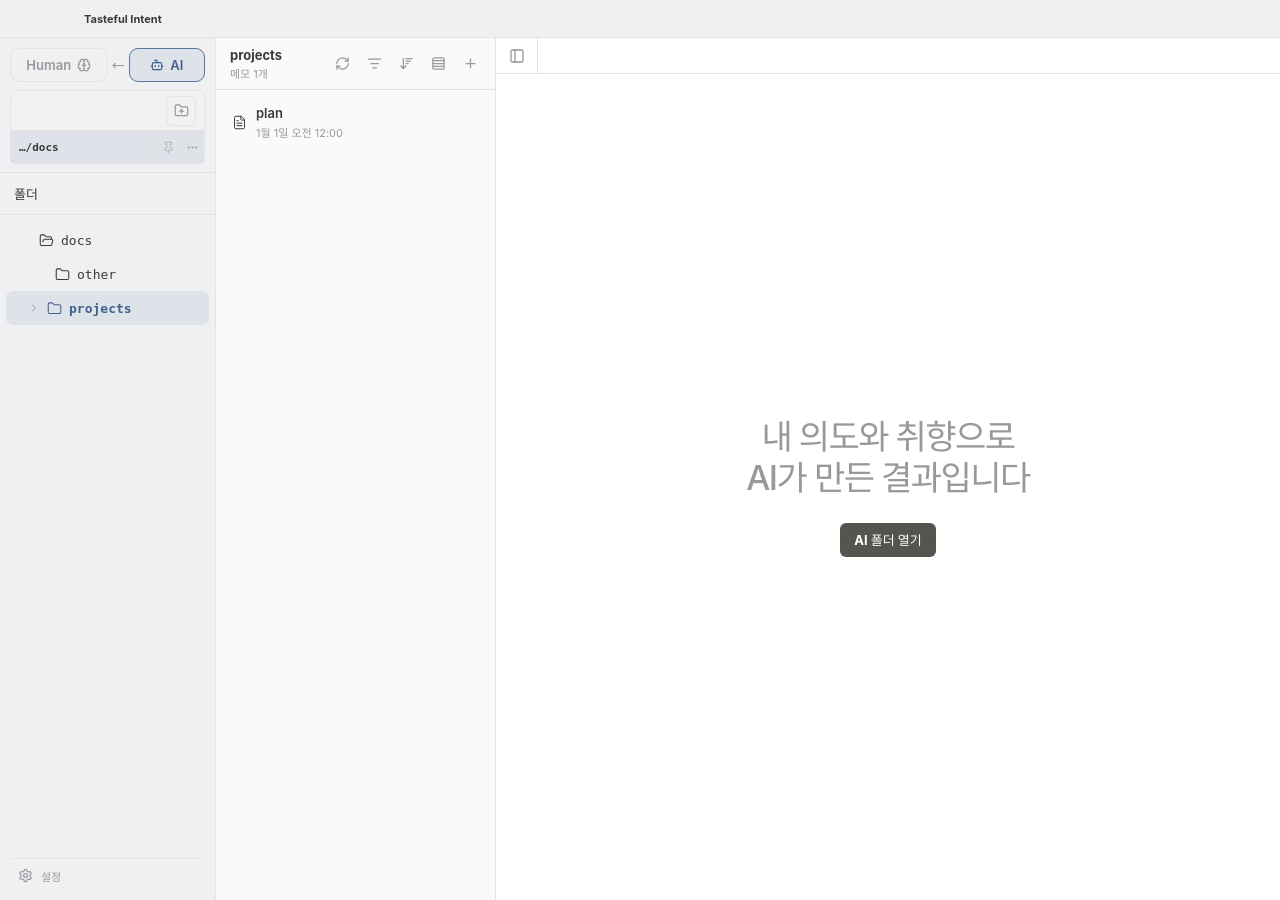
Test: AI git status filter › shows everything while git is unavailable and reapplies the shared filter when it returns
This screenshot has width=1280, height=900.
Expected: the list named "Markdown 문서" is shown, [222,98,489,147]
Click the button named "현재 전체 문서 · 클릭하면 마지막 commit 이후 수정·새 문서" at (374, 64), box [359,48,389,78]
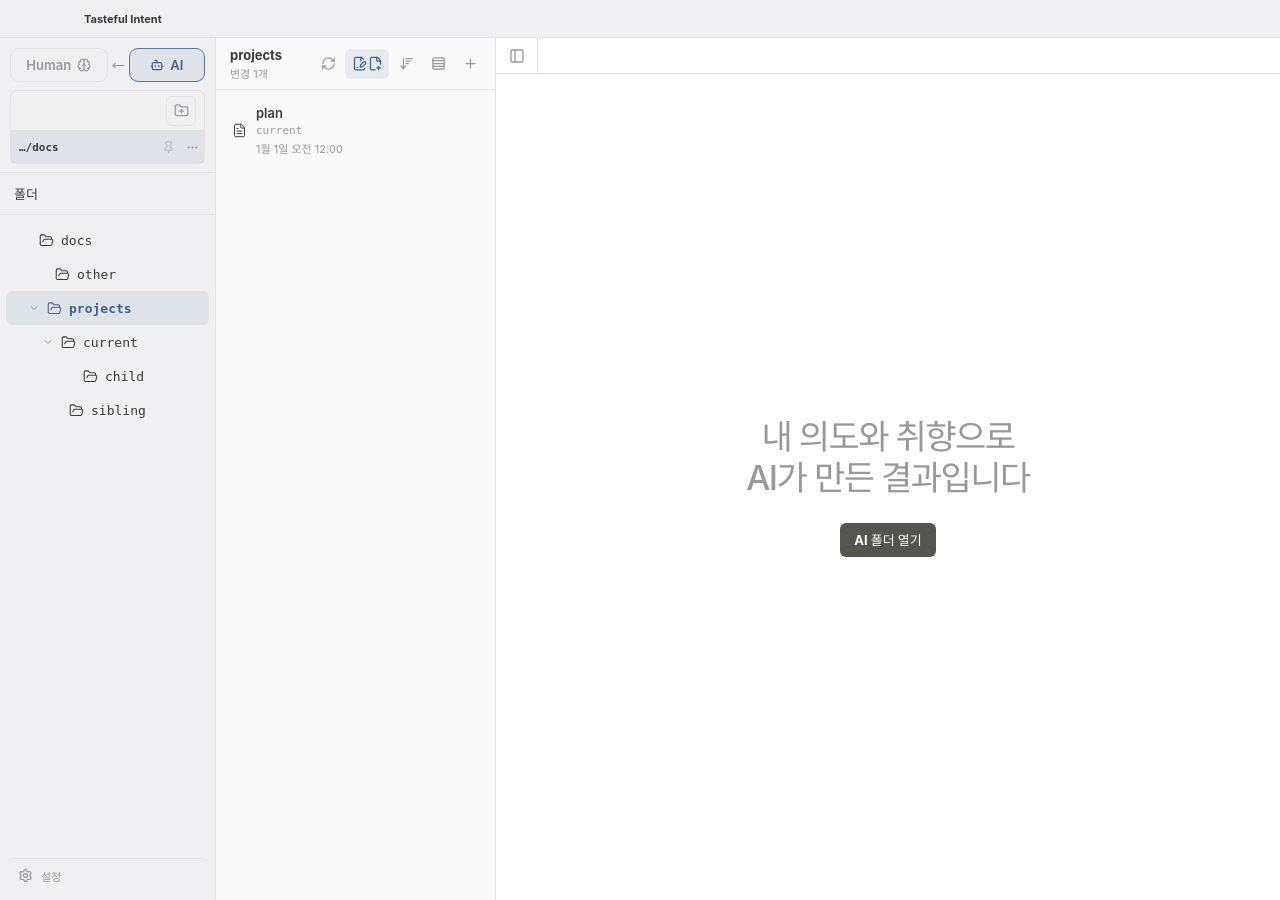
Expected: the text "메모 1개" is shown, [230,66,268,80]
Expected: the button named "현재 수정·새 문서 · 클릭하면 수정된 문서만" is shown, [345,48,389,78]
